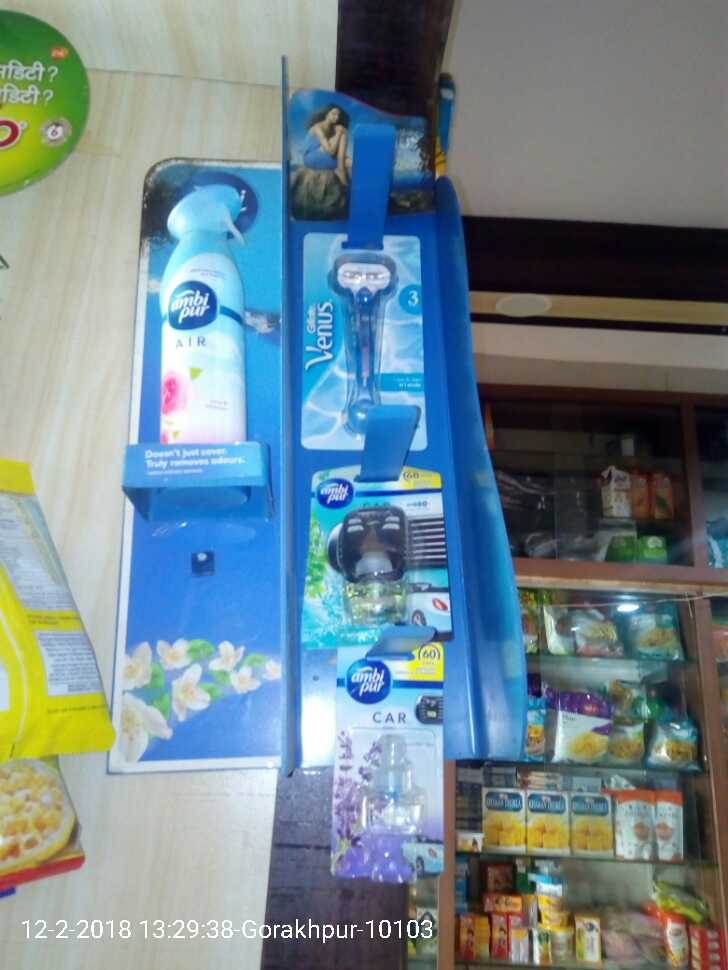beauty: (297, 226, 422, 447)
home: (329, 635, 445, 890), (155, 171, 258, 450), (307, 460, 454, 626)
